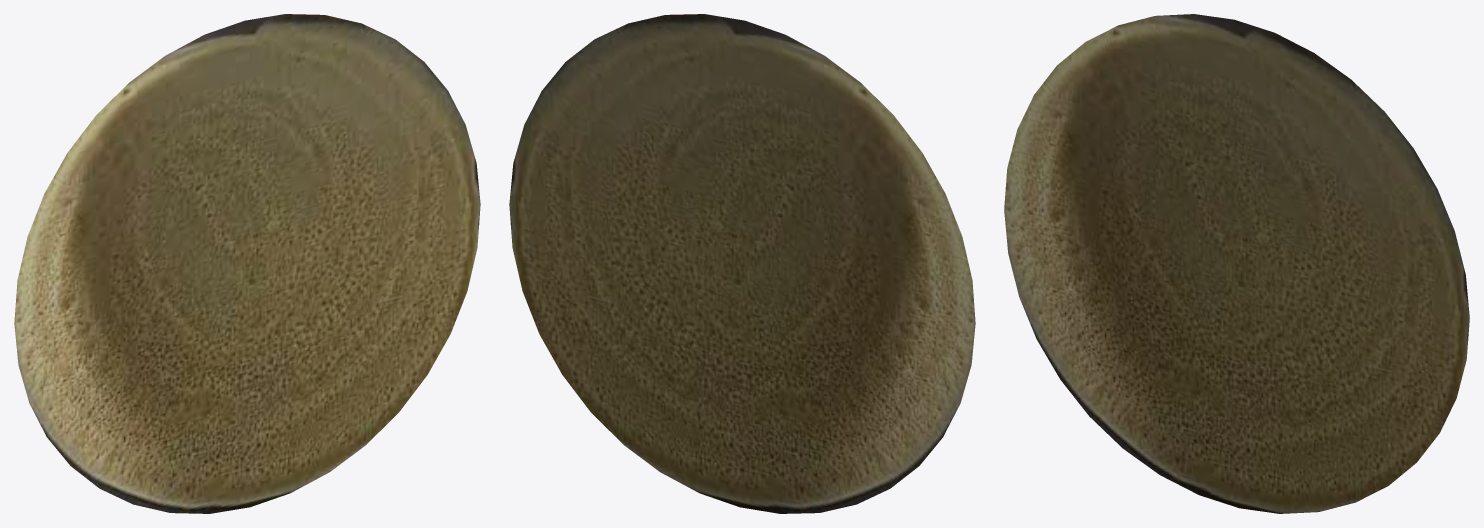
File: enjera.fbx
3 renders of one model, left to right at view 1: azimuth 30°, elevation 25°; view 2: azimuth 150°, elevation 25°; view 3: azimuth 330°, elevation 25°, orthographic.
Parts seen in each view (by area): view 1: Model; view 2: Model; view 3: Model.
Part boxes in pixels (box(x1,y1,x2,y2)): Model: box(14, 14, 480, 513); Model: box(509, 14, 975, 513); Model: box(1004, 14, 1469, 513).
Size of the model in its own units: 49.43 by 49.43 by 0.
